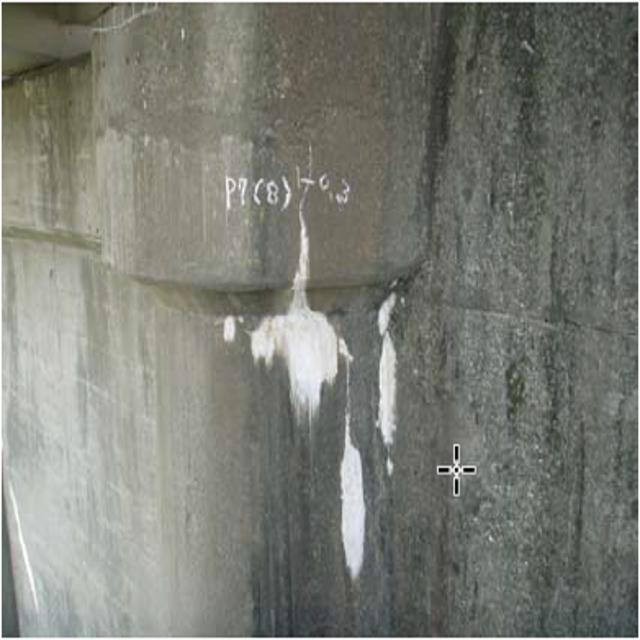freelime: (244, 206, 417, 591)
